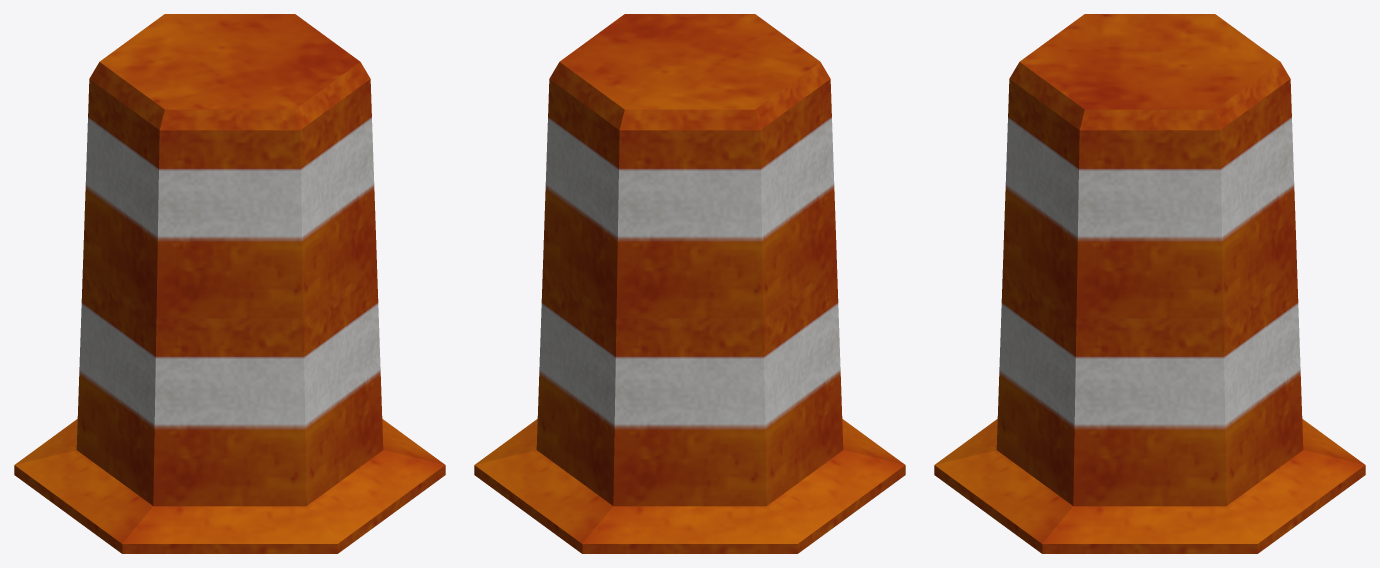
Rendered from Urban_ConstructionConeThin_Model.fbx.
3 views of the same model, side by side, from view 1: azimuth 30°, elevation 25°; view 2: azimuth 150°, elevation 25°; view 3: azimuth 270°, elevation 25° (orthographic).
Parts seen in each view (by area): view 1: Urban_ConstructionConeThin_Mesh; view 2: Urban_ConstructionConeThin_Mesh; view 3: Urban_ConstructionConeThin_Mesh.
Part boxes in pixels (x1,y1,x2,y2): Urban_ConstructionConeThin_Mesh: (14, 14, 445, 553); Urban_ConstructionConeThin_Mesh: (474, 14, 905, 553); Urban_ConstructionConeThin_Mesh: (934, 14, 1365, 553).
Bounding box in the file's own units: 0.6302 × 0.7696 × 0.7277.
